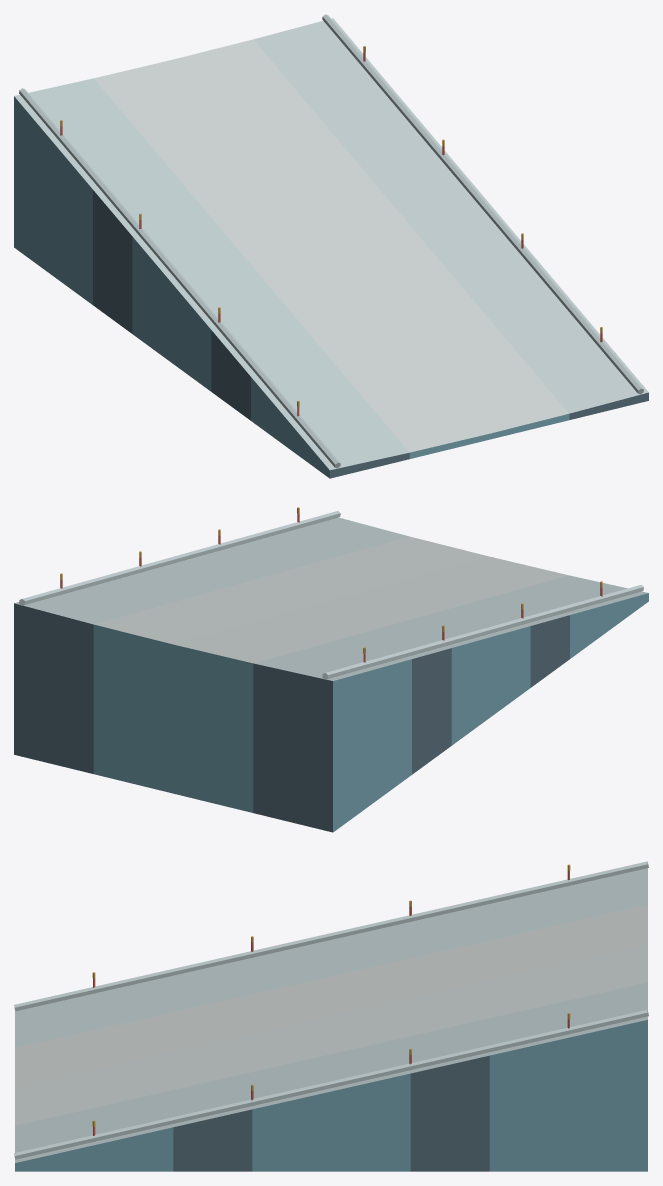
File: ski-slope.glb
3 renders of one model, top to bottom at view 1: azimuth 30°, elevation 25°; view 2: azimuth 150°, elevation 25°; view 3: azimuth 270°, elevation 25°, orthographic.
Parts seen in each view (by area): view 1: slope_surface, slope_body, piste_edges; view 2: slope_body, slope_surface, piste_edges; view 3: slope_surface, slope_body, piste_edges.
Part boxes in pixels (x1=…): slope_surface: x1=14, y1=18, x2=648, y2=470; slope_body: x1=14, y1=96, x2=648, y2=478; piste_edges: x1=19, y1=14, x2=643, y2=468; slope_body: x1=14, y1=593, x2=648, y2=832; slope_surface: x1=14, y1=517, x2=648, y2=680; piste_edges: x1=19, y1=511, x2=643, y2=679; slope_surface: x1=15, y1=868, x2=647, y2=1162; slope_body: x1=15, y1=1020, x2=647, y2=1171; piste_edges: x1=14, y1=861, x2=648, y2=1159.
Bounding box in the file's own units: 14 × 6.61 × 24.07.
